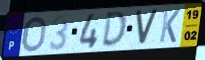3: (48, 14, 70, 52)
4: (78, 12, 99, 50)
D: (100, 10, 128, 49)
K: (158, 9, 182, 44)
O: (20, 16, 48, 54)
V: (134, 9, 160, 47)
